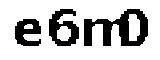6: (46, 4, 80, 52)
D: (124, 5, 151, 47)
e: (11, 18, 42, 48)
m: (82, 15, 125, 50)
